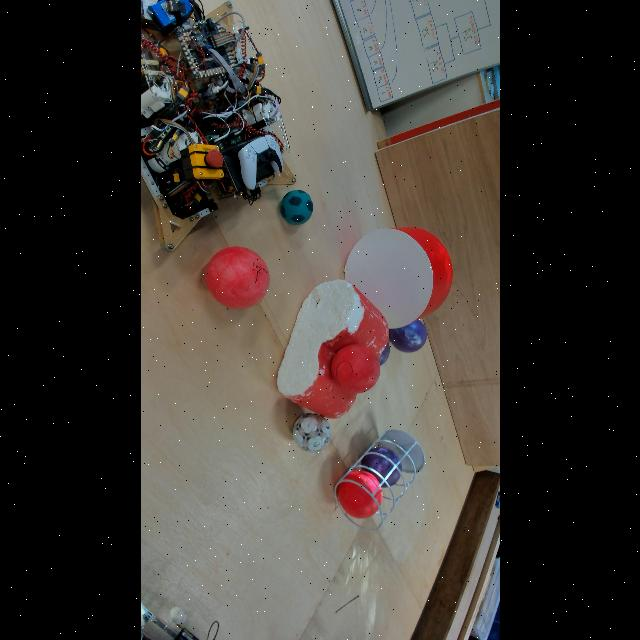P: (360, 447, 402, 488), (388, 317, 428, 353), (378, 342, 389, 366)
R: (204, 246, 270, 310), (330, 344, 380, 394), (338, 471, 382, 519)
S: (332, 427, 426, 533)
